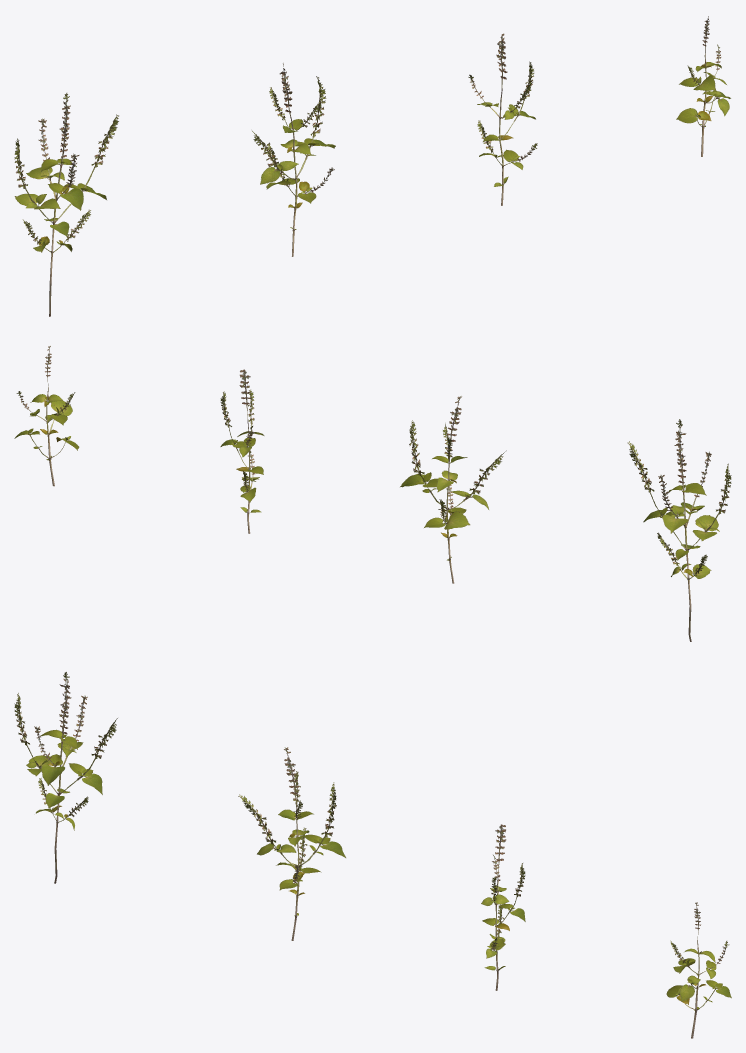
The model's file is shrub_03.glb.
The picture shows the model from 3 angles, top to bottom: view 1: azimuth 30°, elevation 25°; view 2: azimuth 150°, elevation 25°; view 3: azimuth 330°, elevation 25°; orthographic projection. The views are drawn at different scales.
Parts seen in each view (by area): view 1: shrub_03_a, shrub_03_b, shrub_03_c, shrub_03_d; view 2: shrub_03_a, shrub_03_b, shrub_03_c, shrub_03_d; view 3: shrub_03_a, shrub_03_b, shrub_03_c, shrub_03_d.
Boxes of the visible parts, x1,y1,x2,y2 form: shrub_03_a: (14,93,118,316); shrub_03_b: (252,63,335,256); shrub_03_c: (468,33,537,205); shrub_03_d: (676,16,730,156); shrub_03_a: (627,419,731,641); shrub_03_b: (400,396,506,583); shrub_03_c: (220,369,264,533); shrub_03_d: (14,346,79,486); shrub_03_a: (14,672,117,883); shrub_03_b: (238,747,345,940); shrub_03_c: (481,824,525,990); shrub_03_d: (666,902,731,1038).
Size of the model in its own units: 1.37 by 0.4028 by 0.1512.
Materials: 1 (1 with a texture image).
